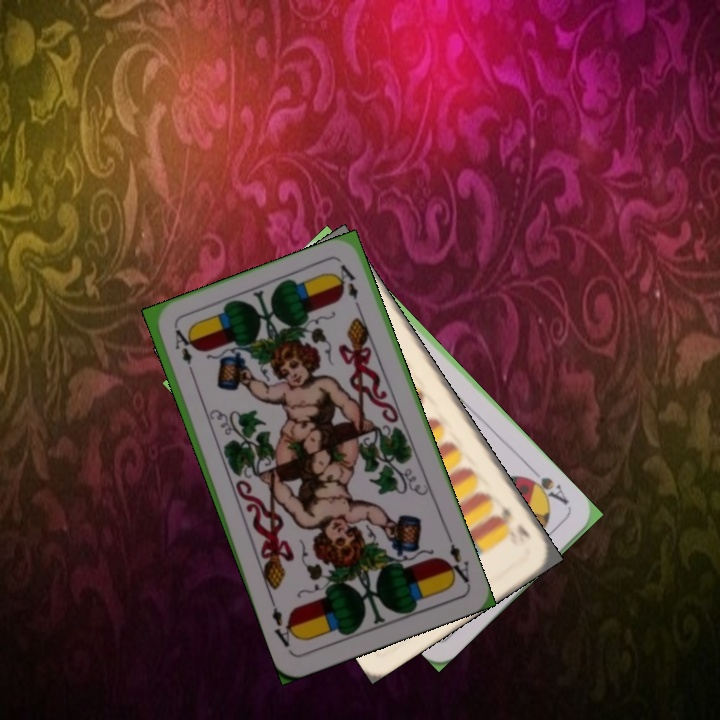E10: (493, 501, 533, 541)
EA: (441, 531, 472, 587), (170, 325, 197, 381)
SA: (521, 465, 571, 508)
